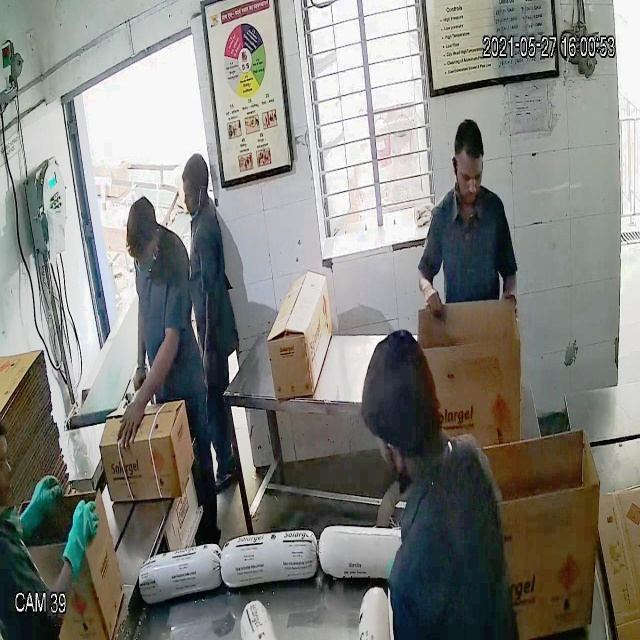Sin_gafas: (450, 163, 485, 193)
